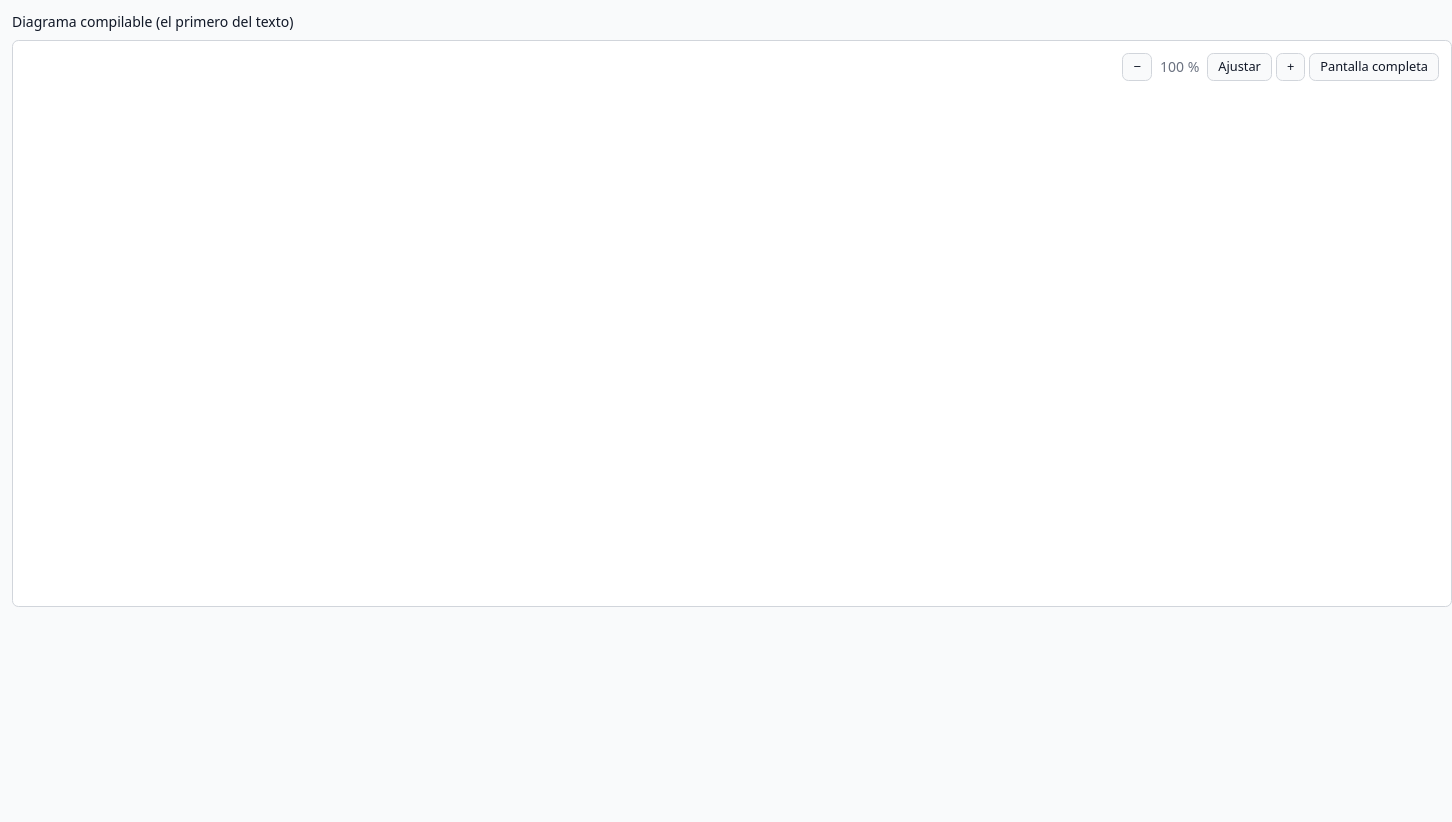
Scenario: si el navegador rechaza la pantalla completa, se dice en pantalla y no queda un error suelto
Click the button "Pantalla completa" at (1374, 67), box [1309, 53, 1439, 81]
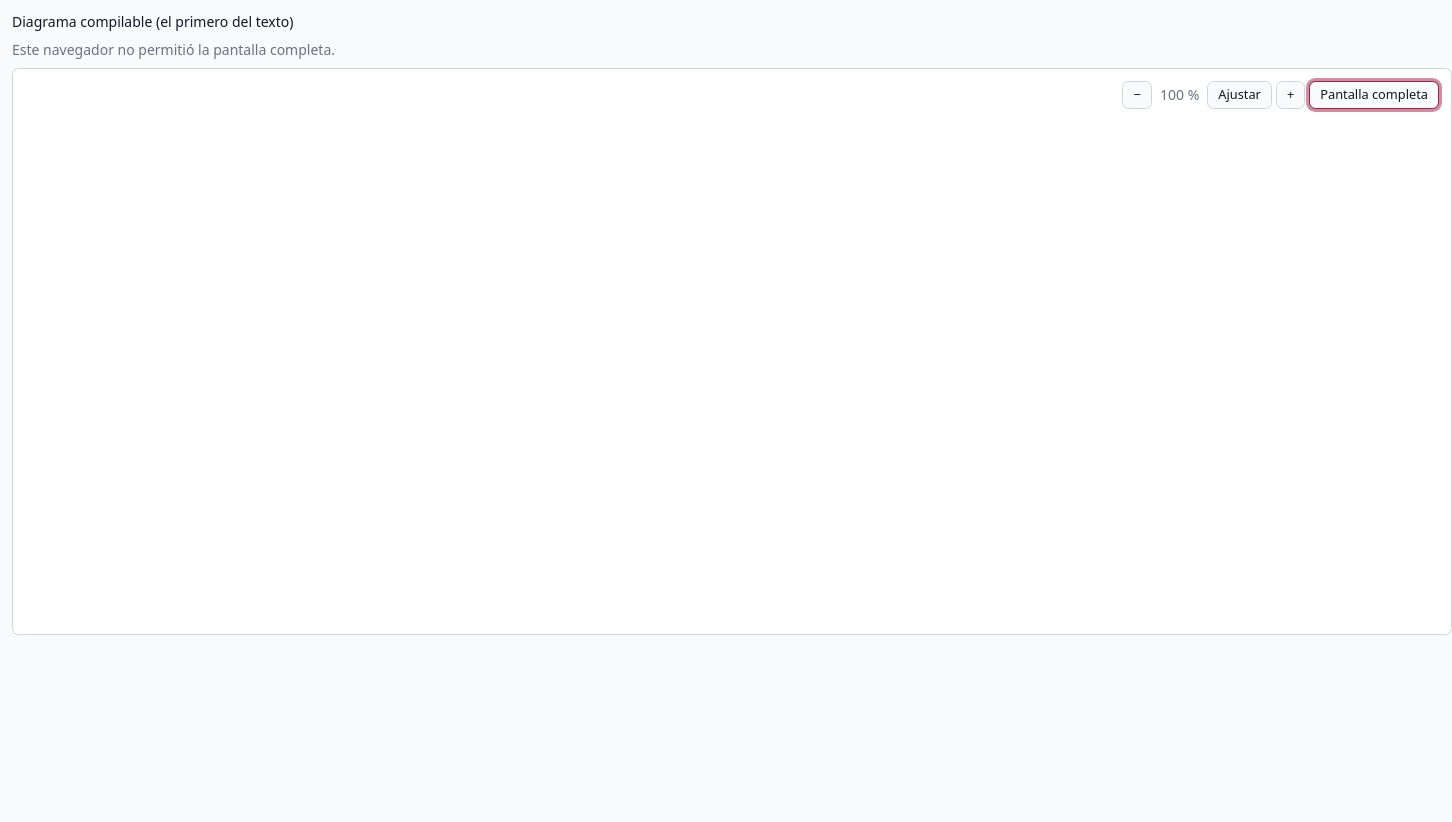
Expected: the message shows "no permitió la pantalla completa", [12, 40, 335, 59]
